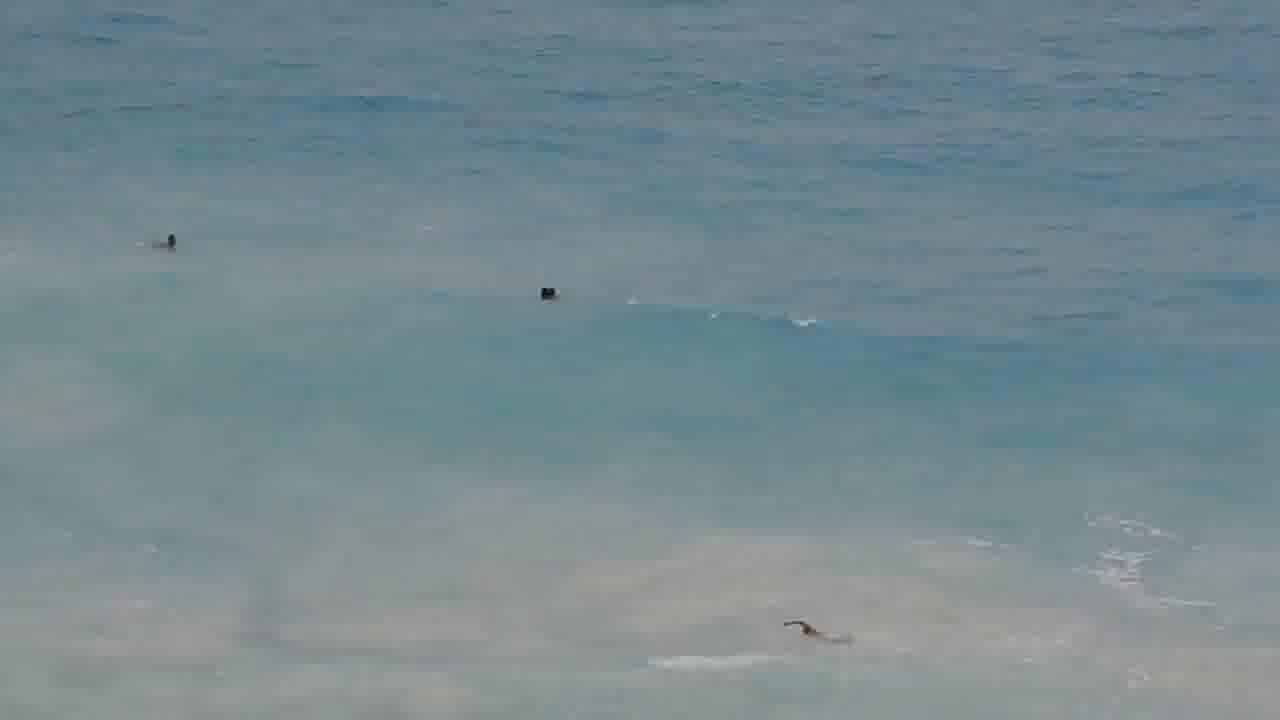human: (778, 610, 852, 652), (156, 223, 185, 254), (534, 279, 570, 303)
